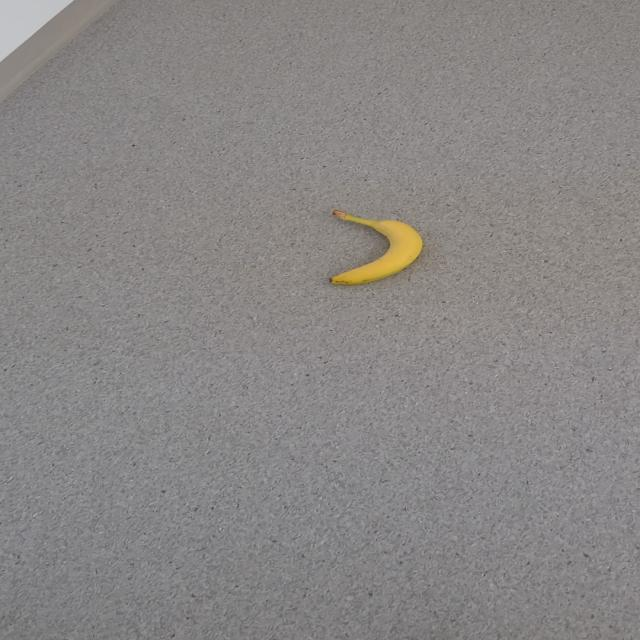banana: (328, 208, 423, 286)
